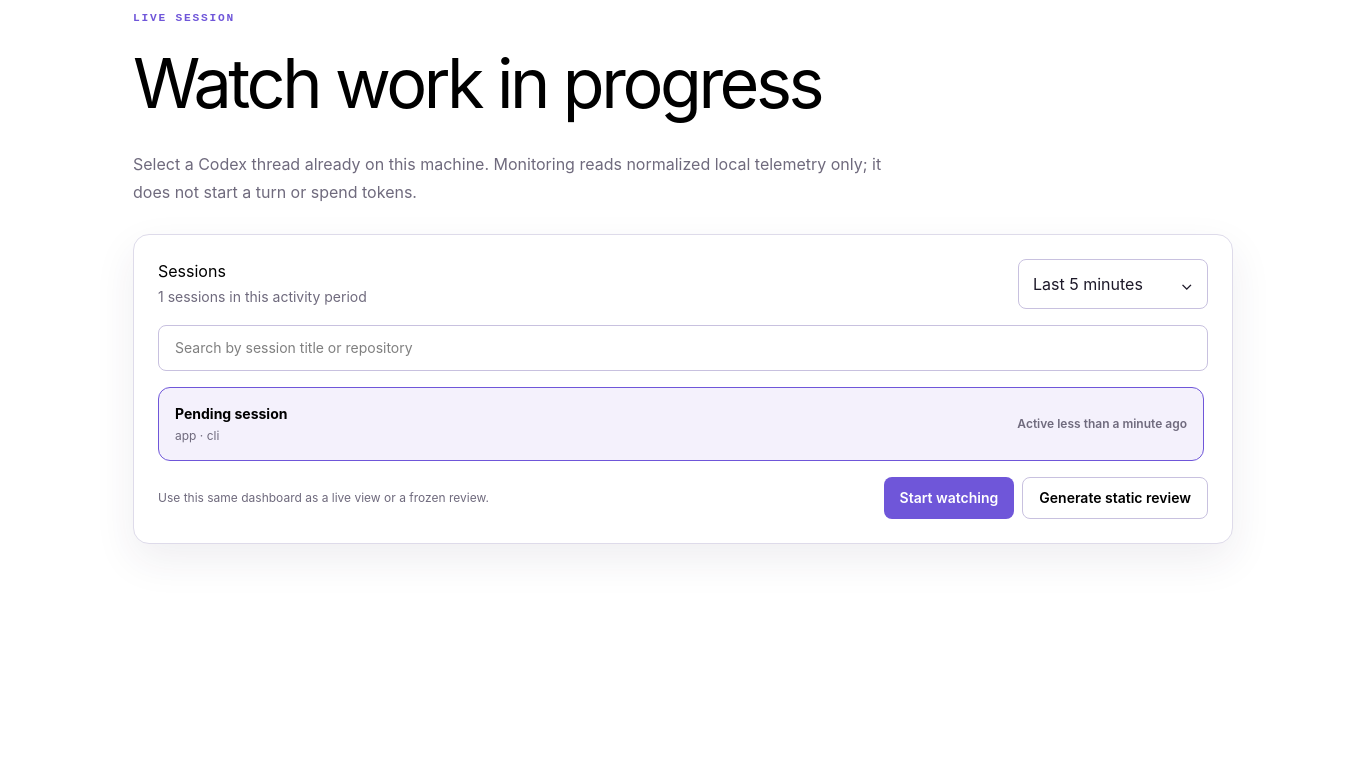
clears the session-information loader when watching is paused before the first snapshot
Check: the text "Pending session" is shown, box left=175, top=405, right=288, bottom=422
Click the button "Start watching" at (949, 498), box left=884, top=477, right=1014, bottom=519
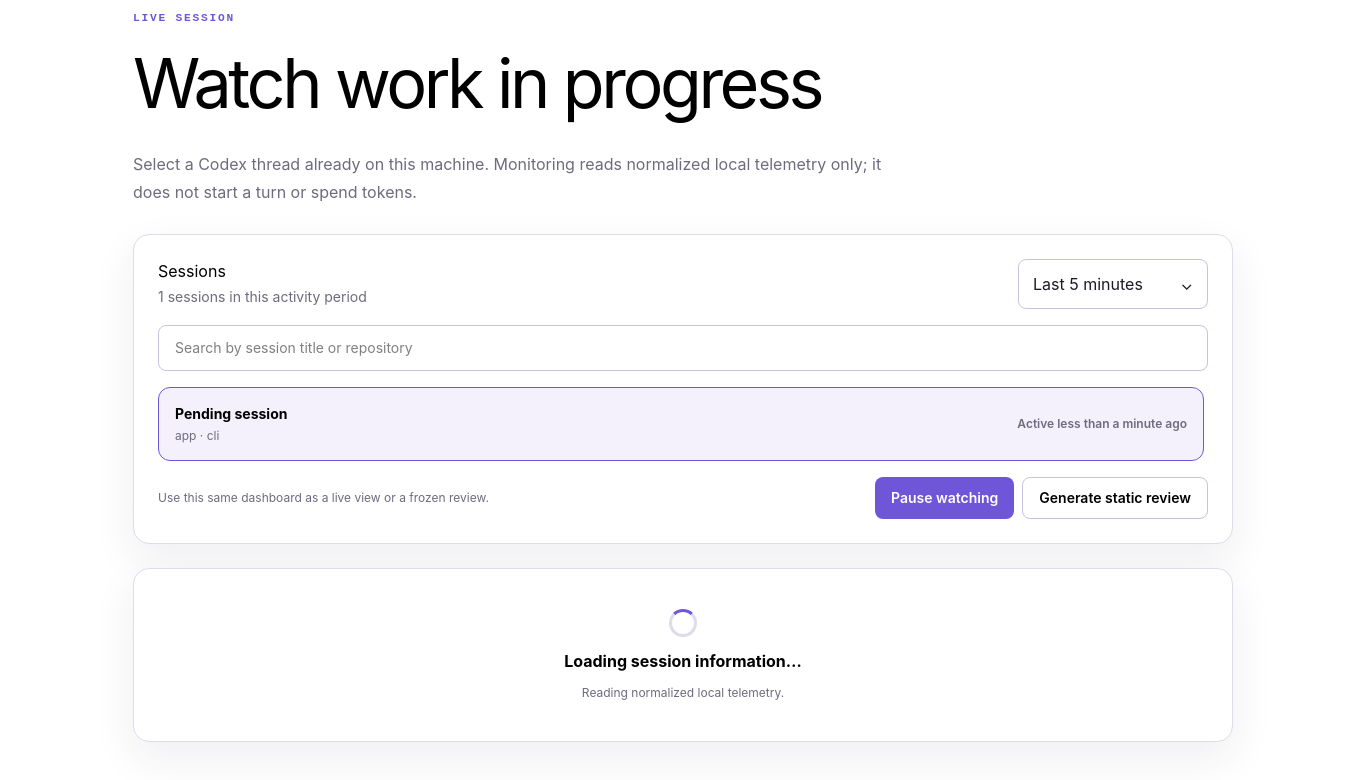
Check: the message "Loading session information" is shown, box left=133, top=568, right=1233, bottom=742
Click the button "Pause watching" at (945, 498), box left=875, top=477, right=1014, bottom=519
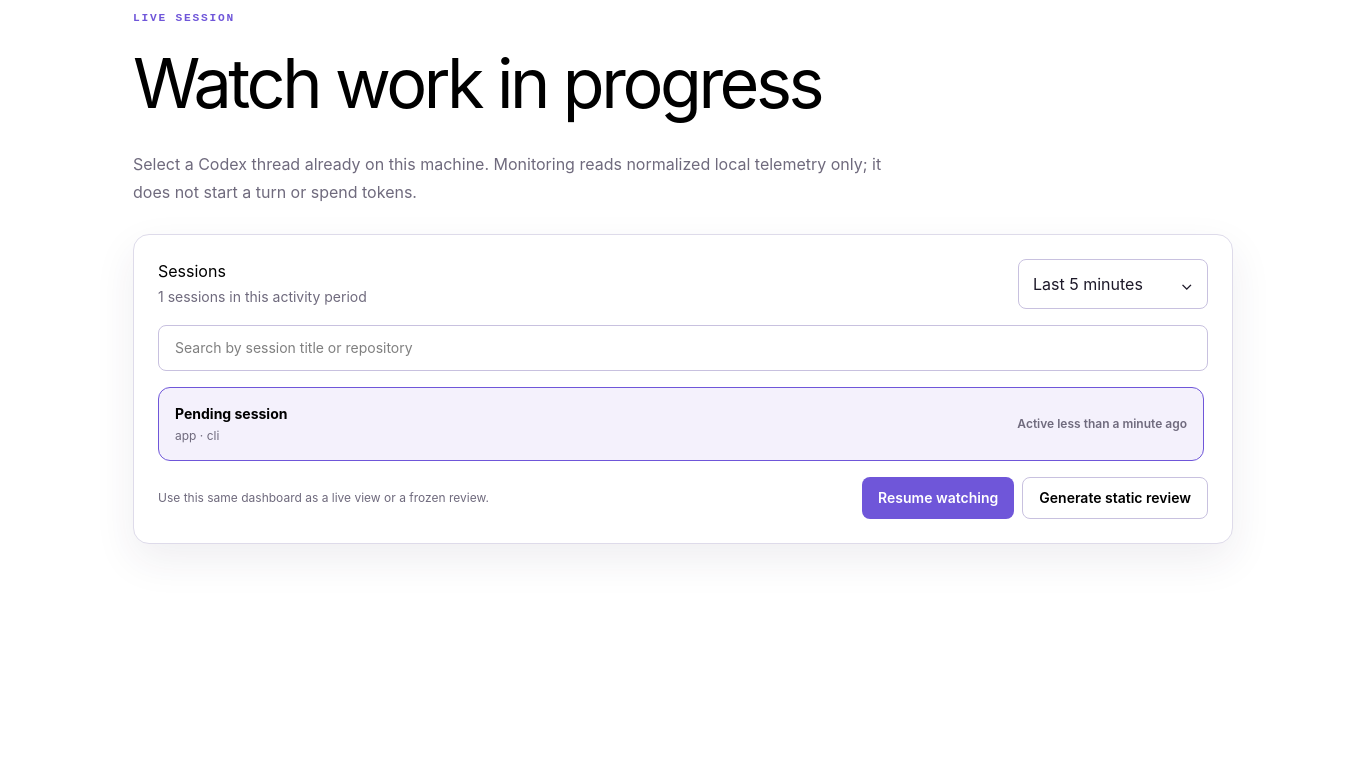
Check: the text "Loading session information" is gone
